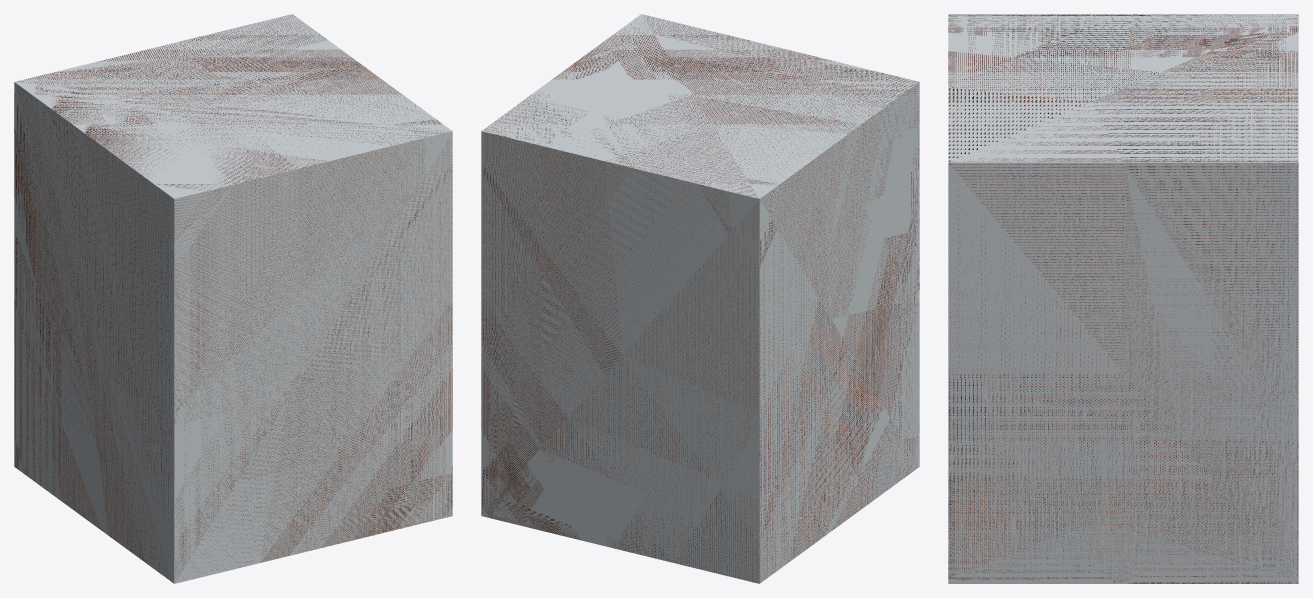
File: cengal.glb
3 views of the same model, side by side, from view 1: azimuth 30°, elevation 25°; view 2: azimuth 150°, elevation 25°; view 3: azimuth 270°, elevation 25° (orthographic). The views are drawn at different scales.
Visible parts, largest first — view 1: BackSide, FrontSide; view 2: BackSide, FrontSide; view 3: BackSide, FrontSide.
Boxes of the visible parts, x1,y1,x2,y2 form: BackSide: (14, 14, 452, 583); FrontSide: (14, 14, 452, 581); BackSide: (481, 14, 919, 583); FrontSide: (481, 15, 919, 582); BackSide: (948, 14, 1298, 583); FrontSide: (948, 14, 1298, 583).
Size of the model in its own units: 1.65 by 2.18 by 1.64.
Materials: 4 (3 with a texture image).
